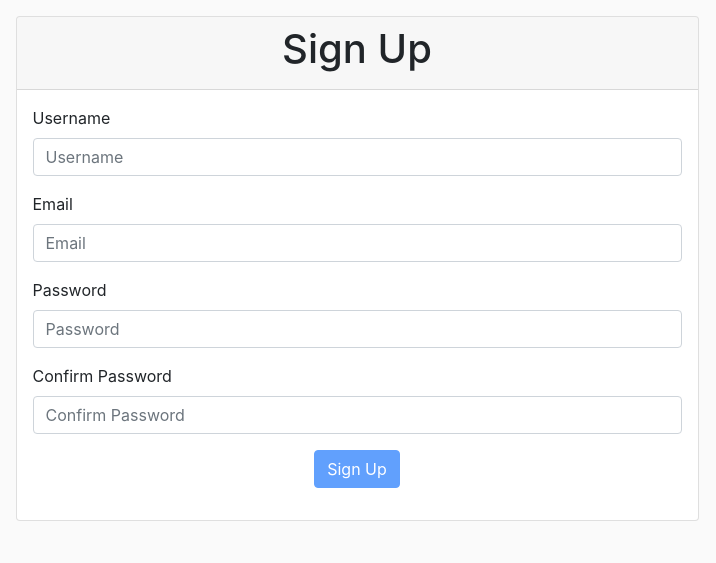
SignUp Page › Interactions › displays Username cannot be null for username
Step 1. Type "user01" into the field with test id "username" → (357,157), box x1=32 y1=138 x2=682 y2=176
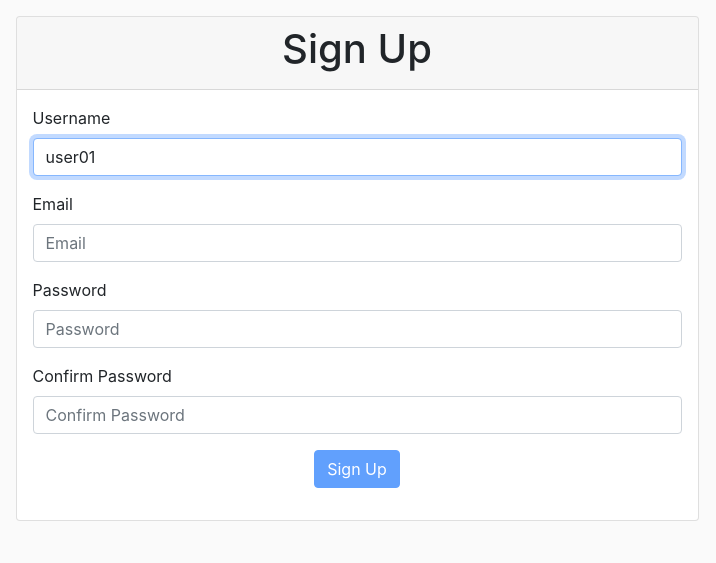
Step 2. Type "!123456Pa" into the password field with test id "password" → (357,329), box x1=32 y1=310 x2=682 y2=348
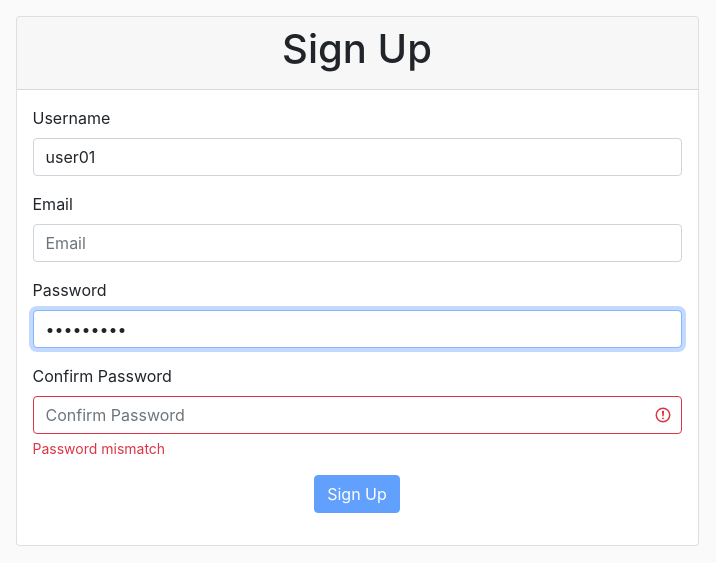
Step 3. Type "!123456Pa" into the password field with test id "confirmPassword" → (357,415), box x1=32 y1=396 x2=682 y2=434
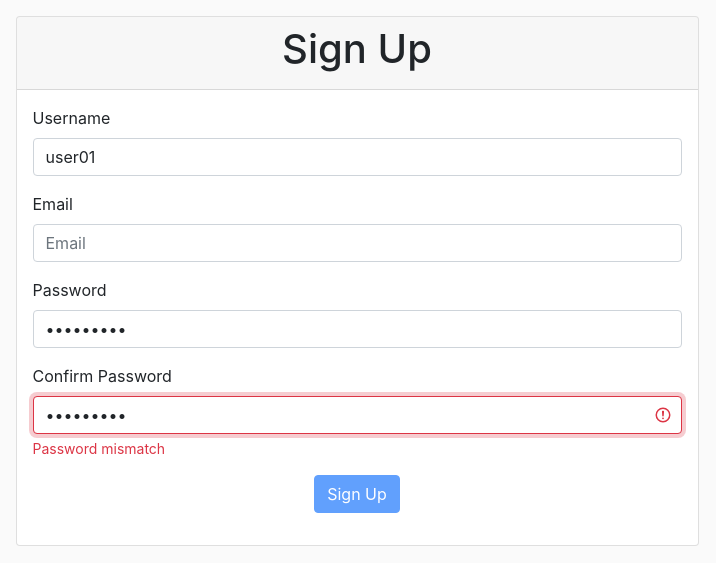
Step 4. Type "user01@domain.com" into the field with test id "email" → (357,243), box x1=32 y1=224 x2=682 y2=262
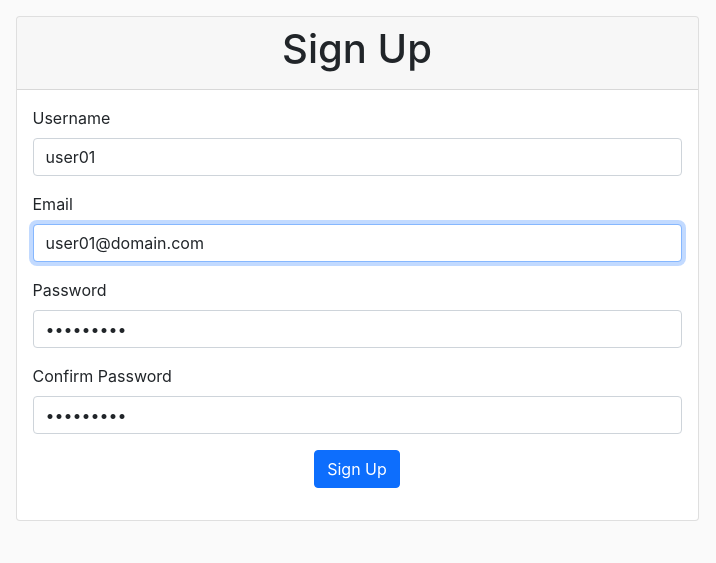
Step 5. Click the button "Sign Up" → (357,469), box x1=314 y1=450 x2=400 y2=488
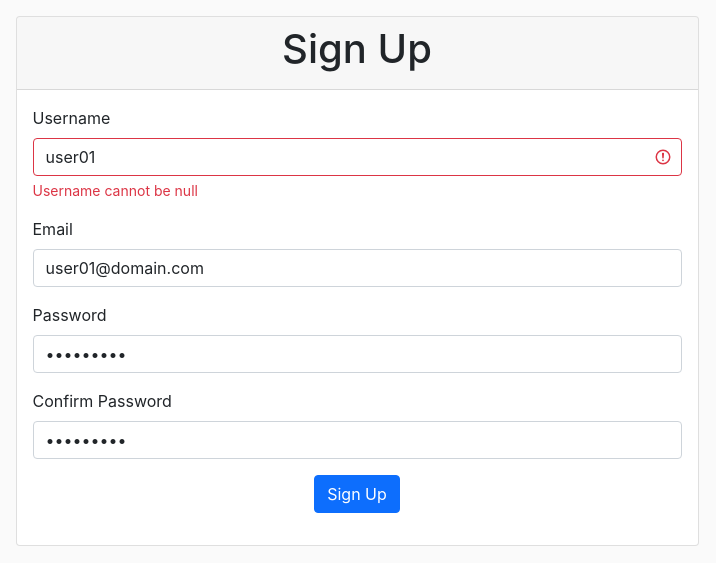
Now the text "Username cannot be null" is shown, box x1=32 y1=182 x2=198 y2=199
